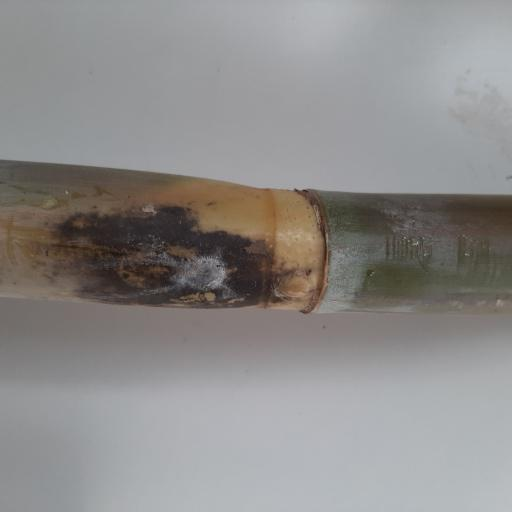Bud: (273, 269, 314, 301)
